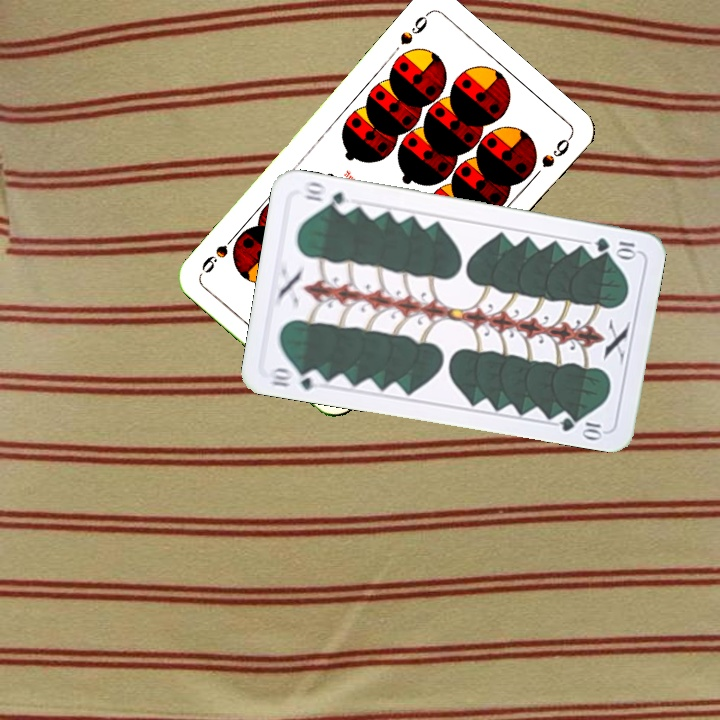G10: (265, 363, 325, 393), (591, 233, 639, 260)
S9: (396, 8, 432, 48)
